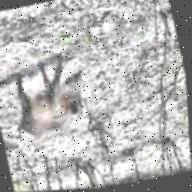boar: (0, 46, 96, 152)
